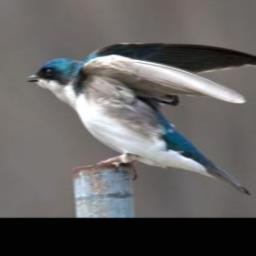Swallow: (23, 38, 256, 199)
